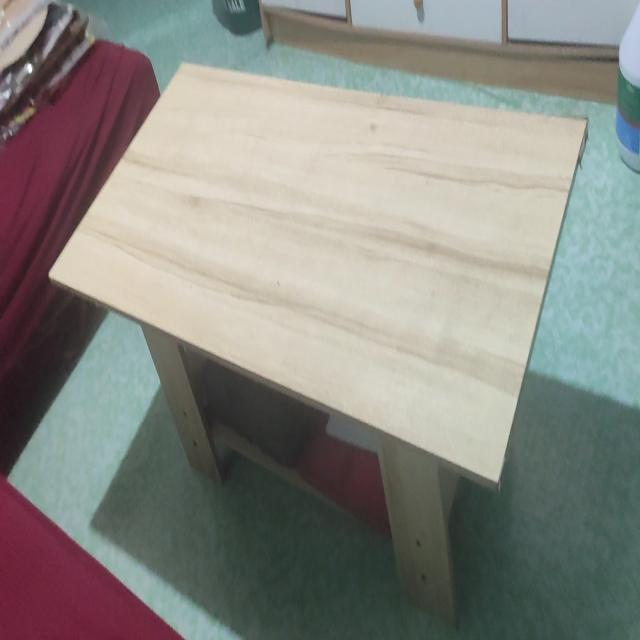table: (54, 57, 602, 592)
